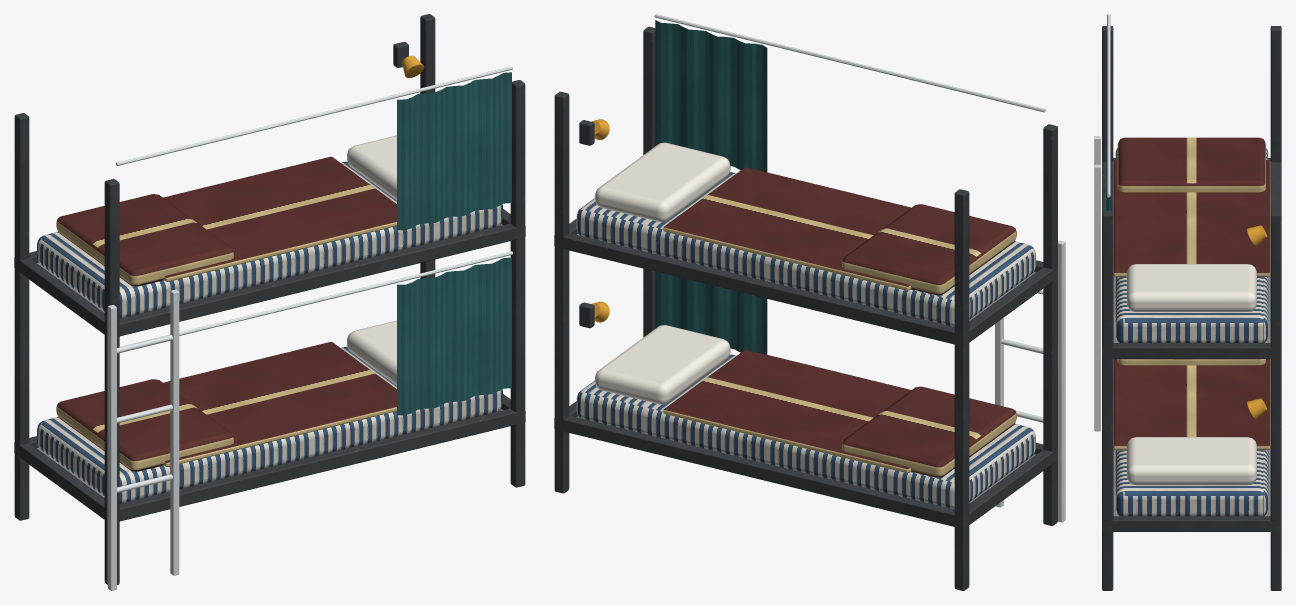
File: BunkBed.glb
3 views of the same model, side by side, from view 1: azimuth 30°, elevation 25°; view 2: azimuth 150°, elevation 25°; view 3: azimuth 270°, elevation 25° (orthographic). The views are drawn at different scales.
Parts seen in each view (by area): view 1: BunkBed_Body, BunkBed_Curtain_upper, BunkBed_Curtain_lower; view 2: BunkBed_Body, BunkBed_Curtain_upper, BunkBed_Curtain_lower; view 3: BunkBed_Body.
Boxes of the visible parts, x1=… form: BunkBed_Body: x1=14, y1=14, x2=525, y2=590; BunkBed_Curtain_upper: x1=397, y1=72, x2=511, y2=230; BunkBed_Curtain_lower: x1=397, y1=257, x2=511, y2=415; BunkBed_Body: x1=554, y1=14, x2=1065, y2=590; BunkBed_Curtain_upper: x1=655, y1=20, x2=767, y2=172; BunkBed_Curtain_lower: x1=655, y1=271, x2=767, y2=354; BunkBed_Body: x1=1094, y1=14, x2=1281, y2=590.
Size of the model in its own units: 2.01 by 1.93 by 0.835.
Materials: 8 (6 with a texture image).
